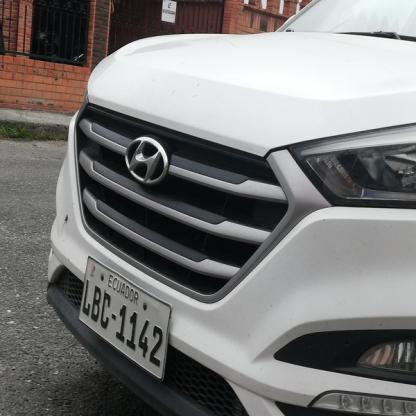Placa: (74, 250, 174, 386)
